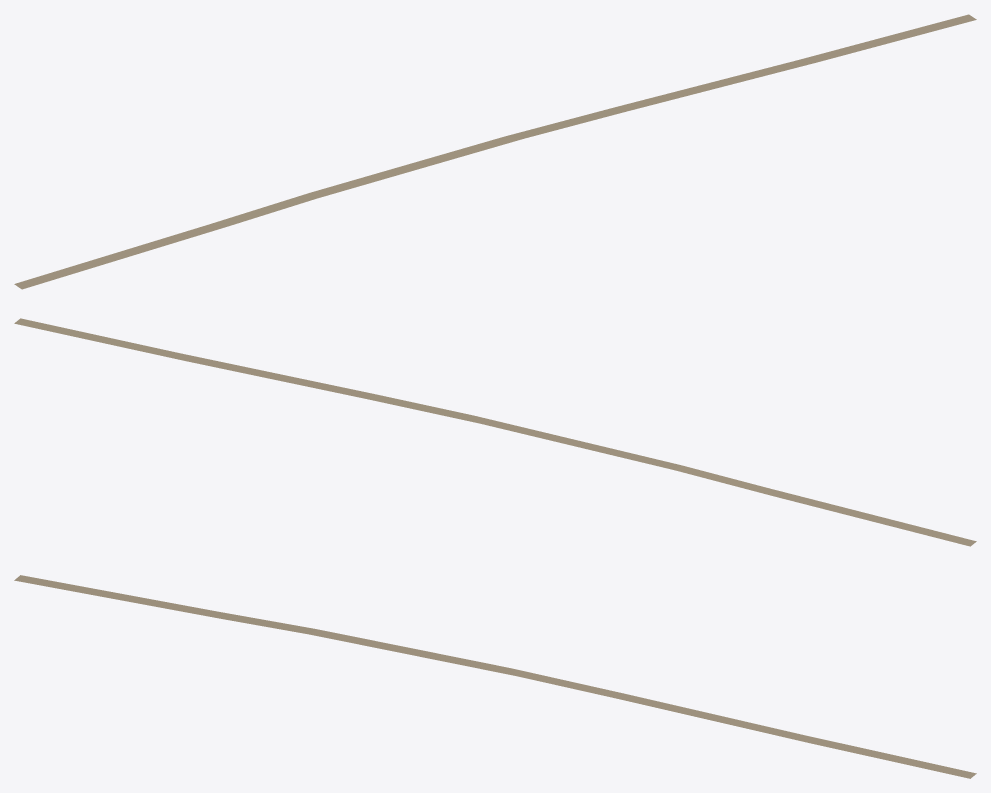
The model's file is farm_26_30_track.glb.
3 views of the same model, one above another, from view 1: azimuth 30°, elevation 25°; view 2: azimuth 150°, elevation 25°; view 3: azimuth 330°, elevation 25° (orthographic). The views are drawn at different scales.
Parts seen in each view (by area): view 1: geometry_0; view 2: geometry_0; view 3: geometry_0.
Part boxes in pixels (bbox=[...]): geometry_0: bbox=[14, 14, 976, 289]; geometry_0: bbox=[14, 318, 976, 546]; geometry_0: bbox=[14, 575, 976, 778].
Bounding box in the file's own units: 249 × 3.84 × 13.99.
